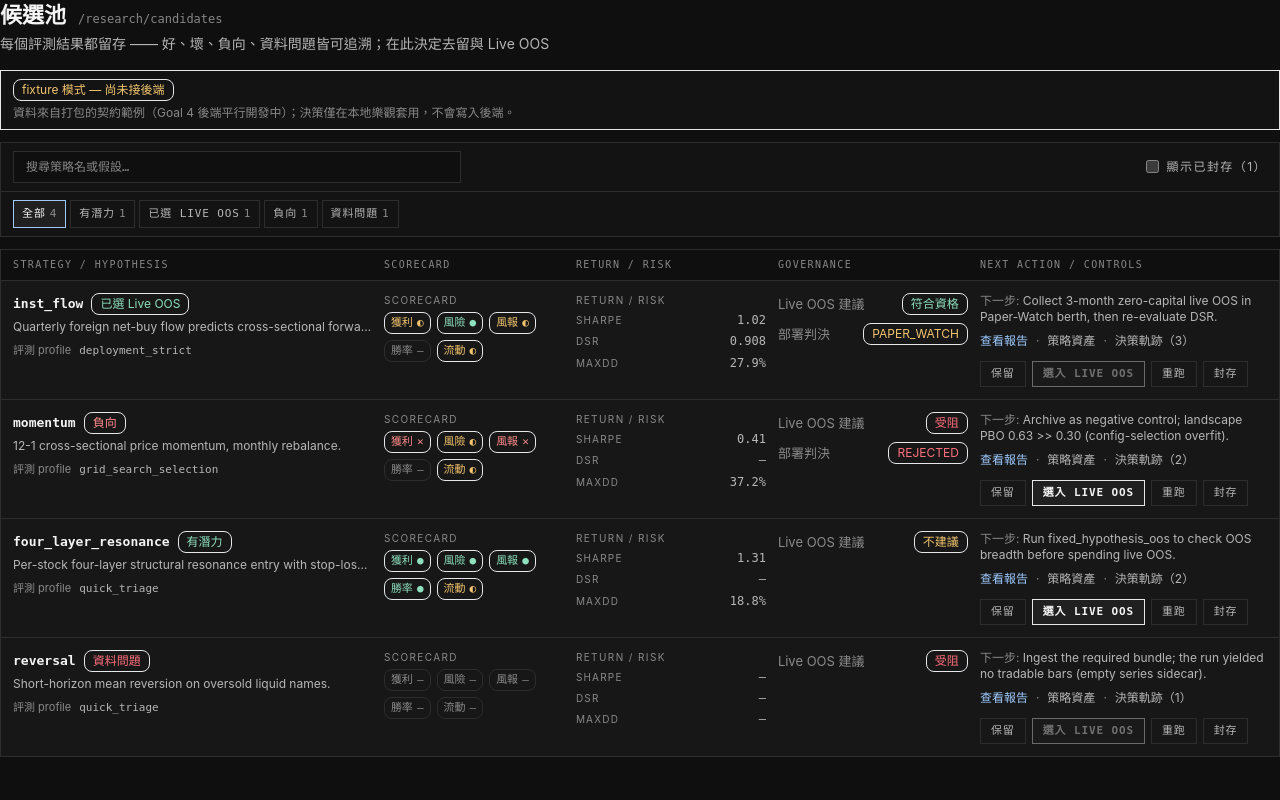
Test: CandidatePoolPage — fixture optimistic overlay (no backend write) › non-eligible Select Live OOS forces an override reason, then applies locally with a local badge
Expected: the heading "four_layer_resonance" is shown, [13, 533, 170, 552]
Click the button "選入 Live OOS" in the row of "18.8%". click: (1088, 612)
box: [1032, 599, 1145, 625]
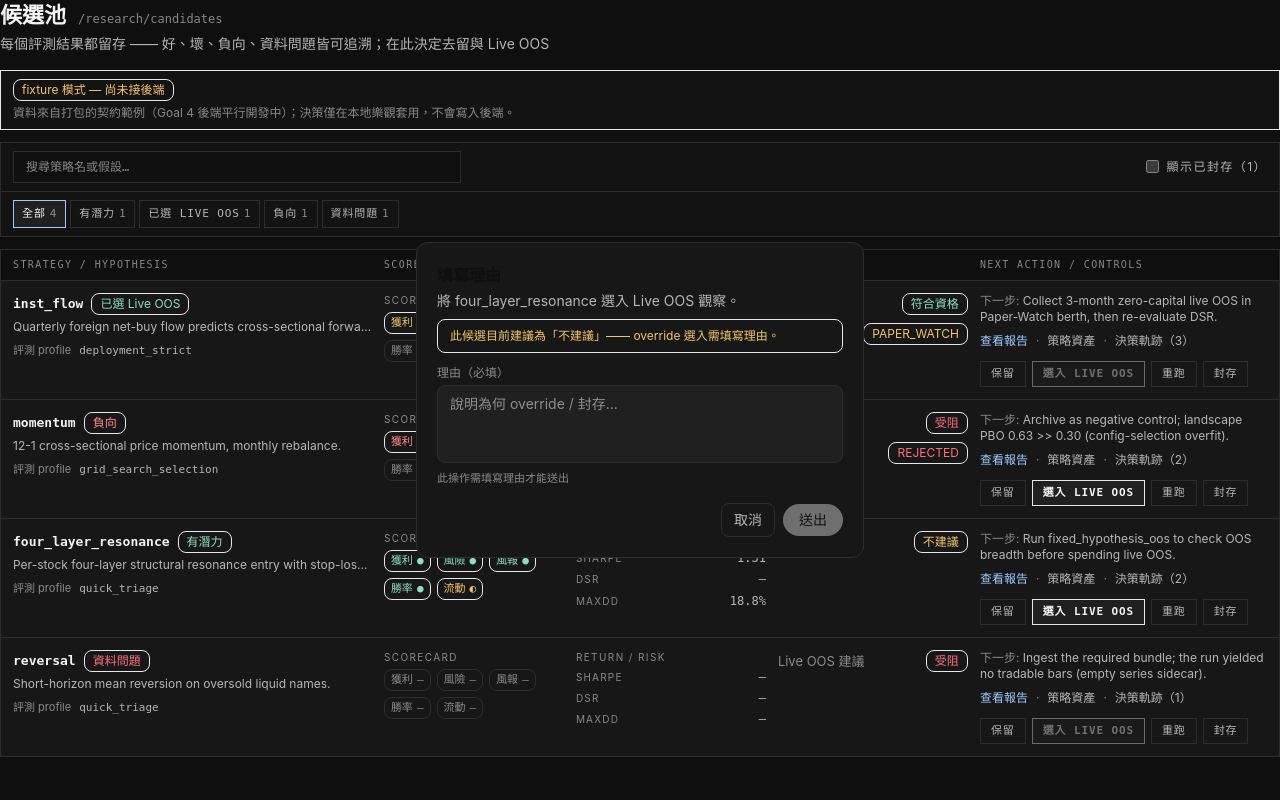
Type "worth a paper-replay look" into the text box. click: (640, 424)
box: [437, 385, 843, 463]
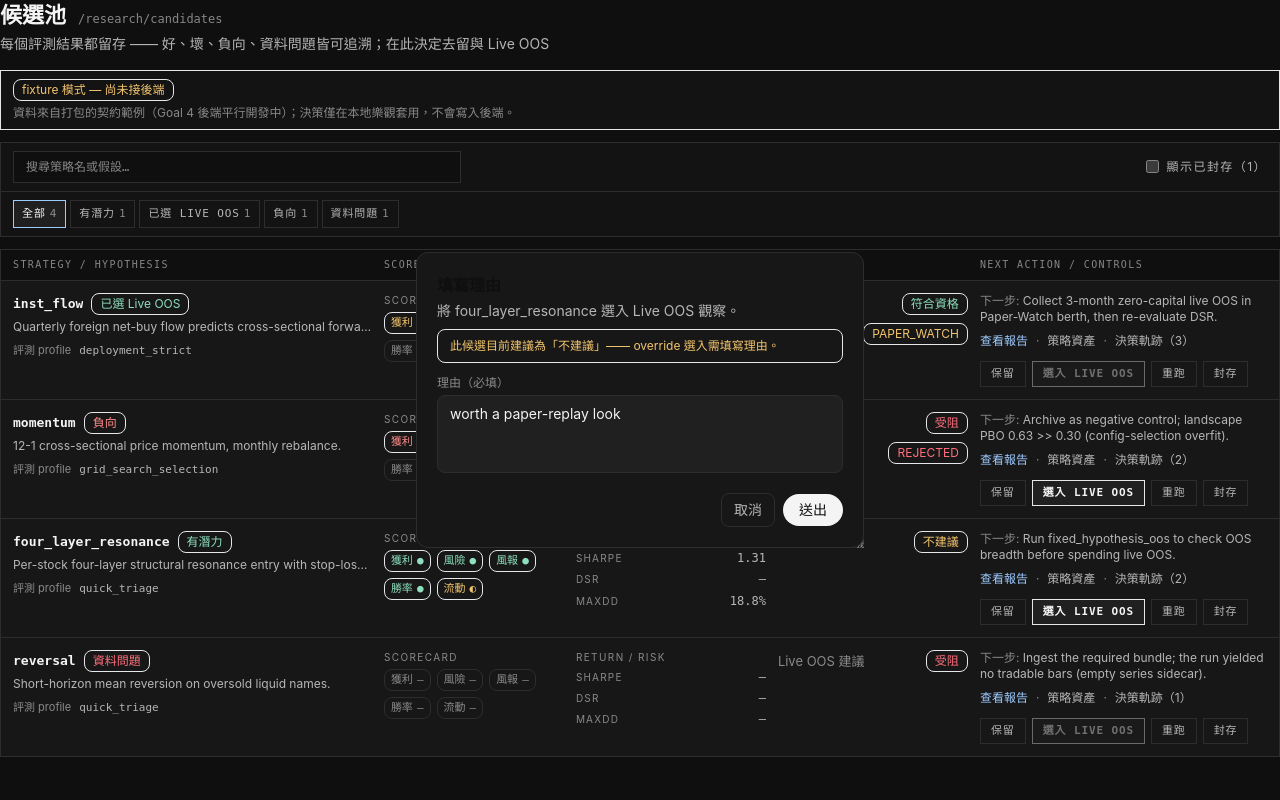
Click the button "送出". click: (813, 510)
box: [783, 494, 843, 526]
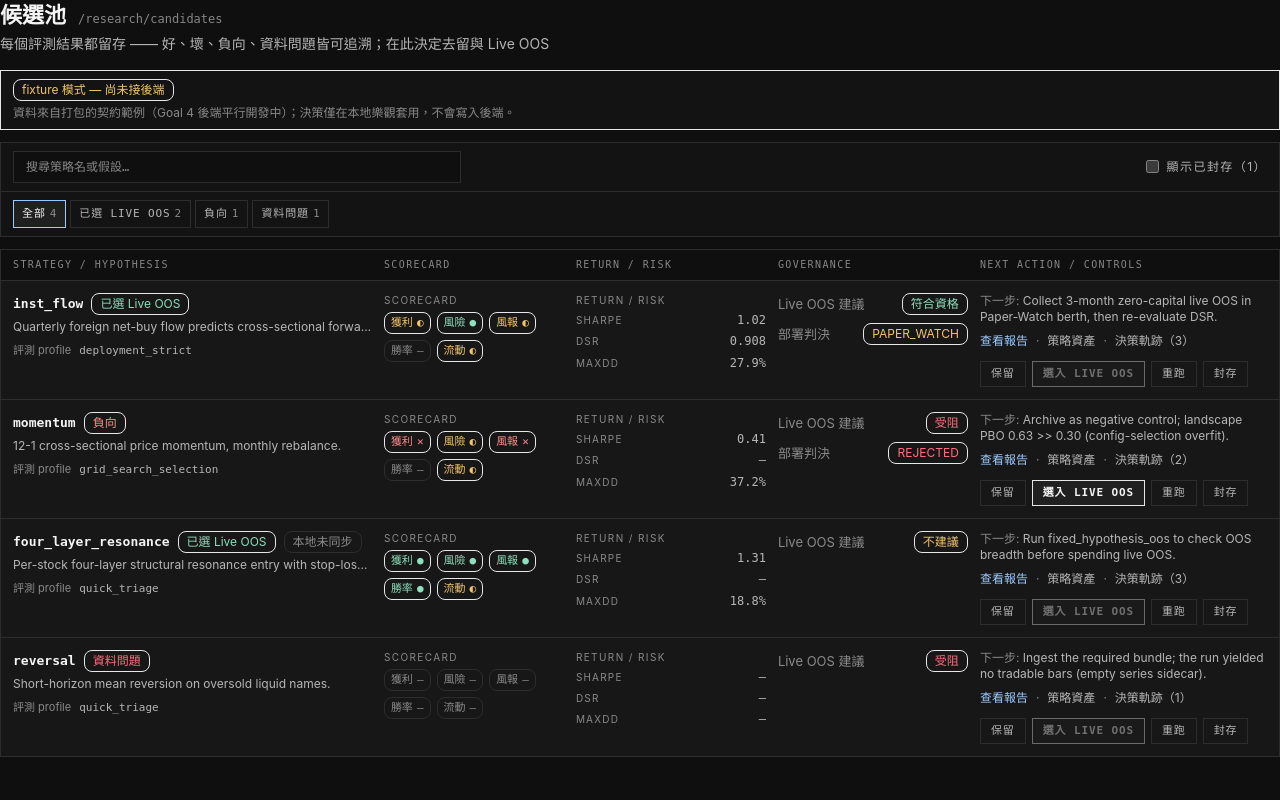
Expected: the 1st text "已選 Live OOS" is shown, [79, 206, 171, 222]
Now the text "本地未同步" is shown, box [284, 531, 362, 553]
